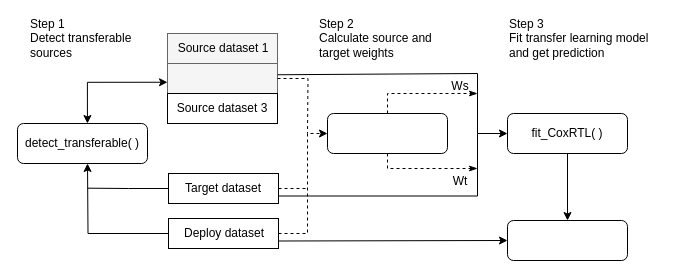
The diagram is 675 pixels wide and 278 high, and some of its shapes have lost their labels. Here are the shapes that lost their labels. From the top down, the centre of each, then its label:
the point at 222,78: Source dataset 2
the point at 387,133: calculate_weights( )
the point at 567,240: predict_CoxRTL( )
